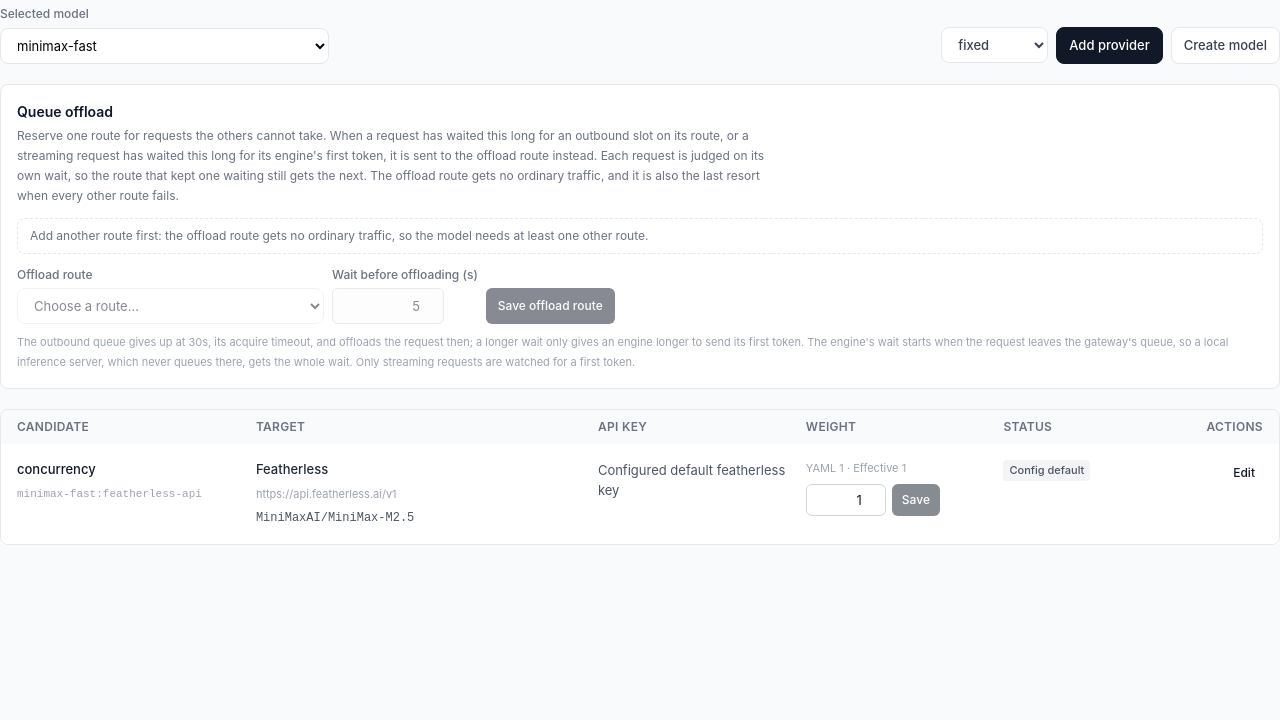
ProviderRoutesTab › shows fixed weight when adding a fixed provider route
What coordinates should you click on to do the following:
click the button "Add provider"
I would click on:
 (1110, 45)
Its box is x1=1056 y1=26 x2=1163 y2=64.
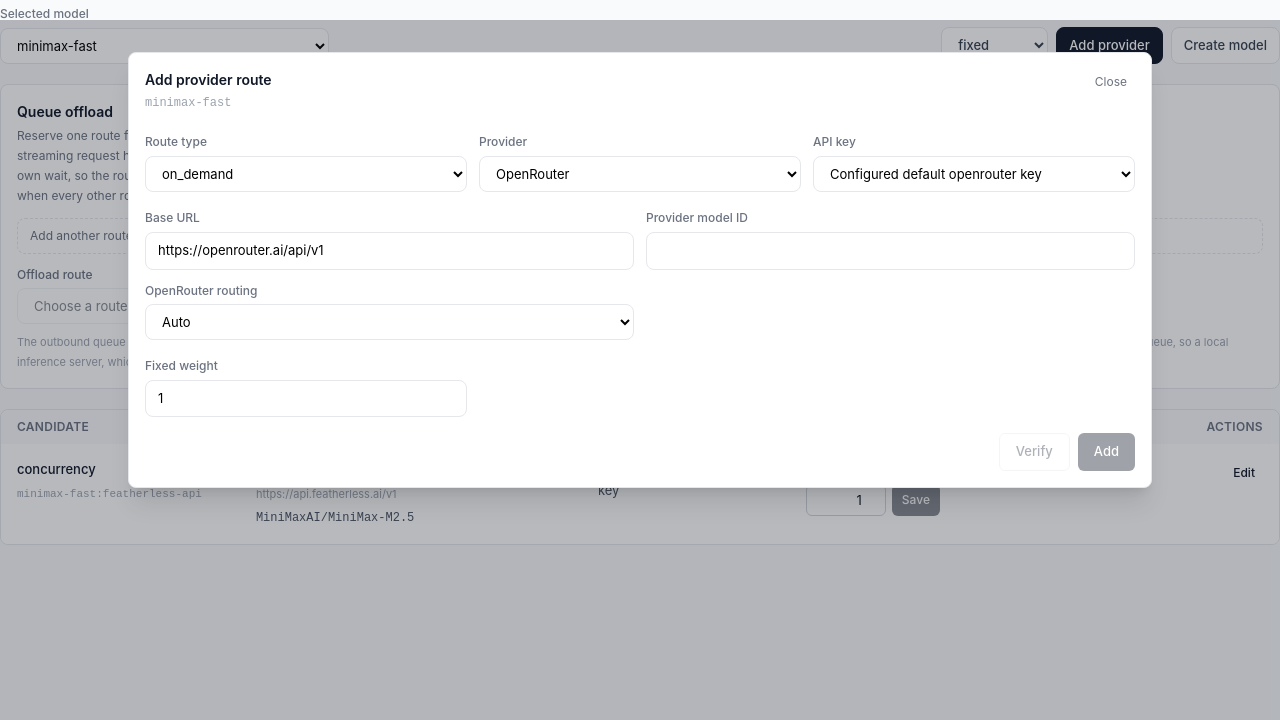
Expected: the dropdown named "Routing policy" shows "fixed", x1=941 y1=27 x2=1048 y2=63
Expected: the number field labelled "Fixed weight" holds "1", x1=145 y1=380 x2=467 y2=417
